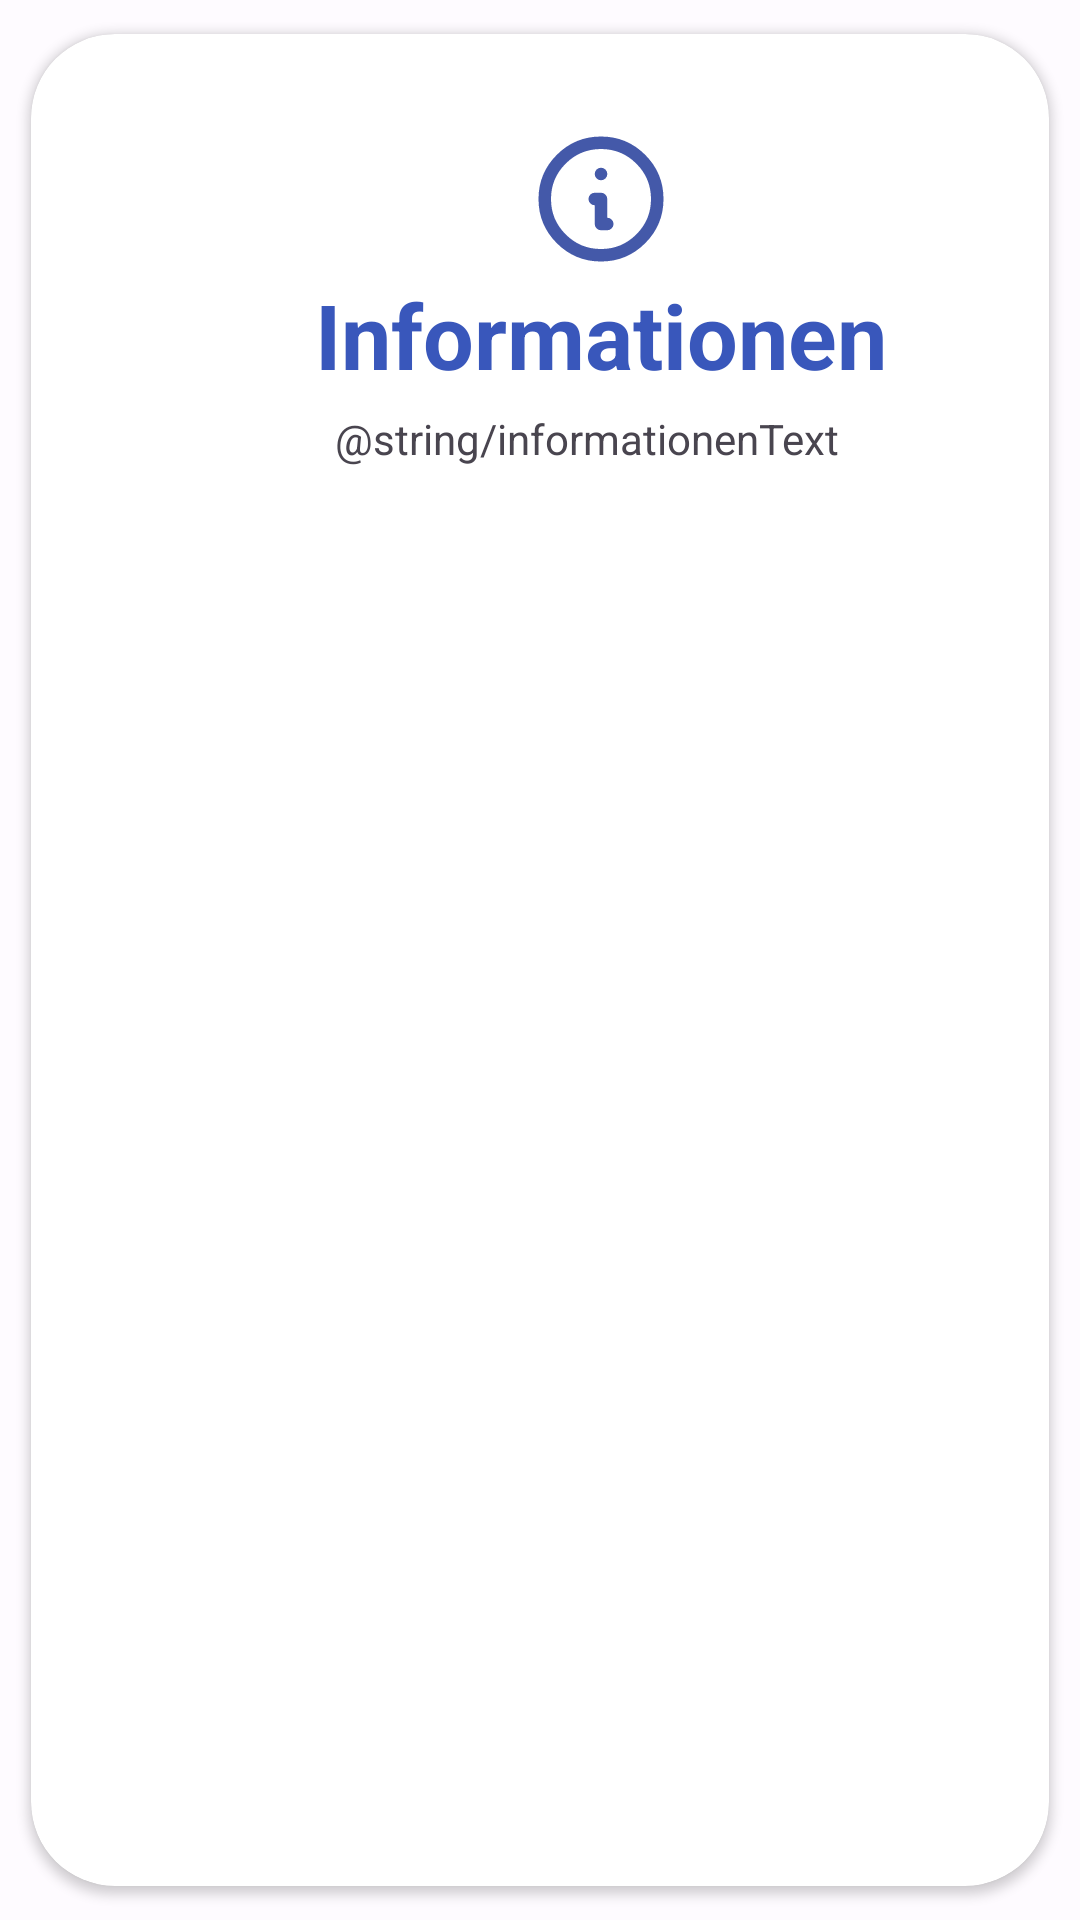

Locate icon controls on the screen. Image size 1080*1920, boxes as box(x1, y1, x2, y2).
informationicon: box(538, 136, 664, 262)
